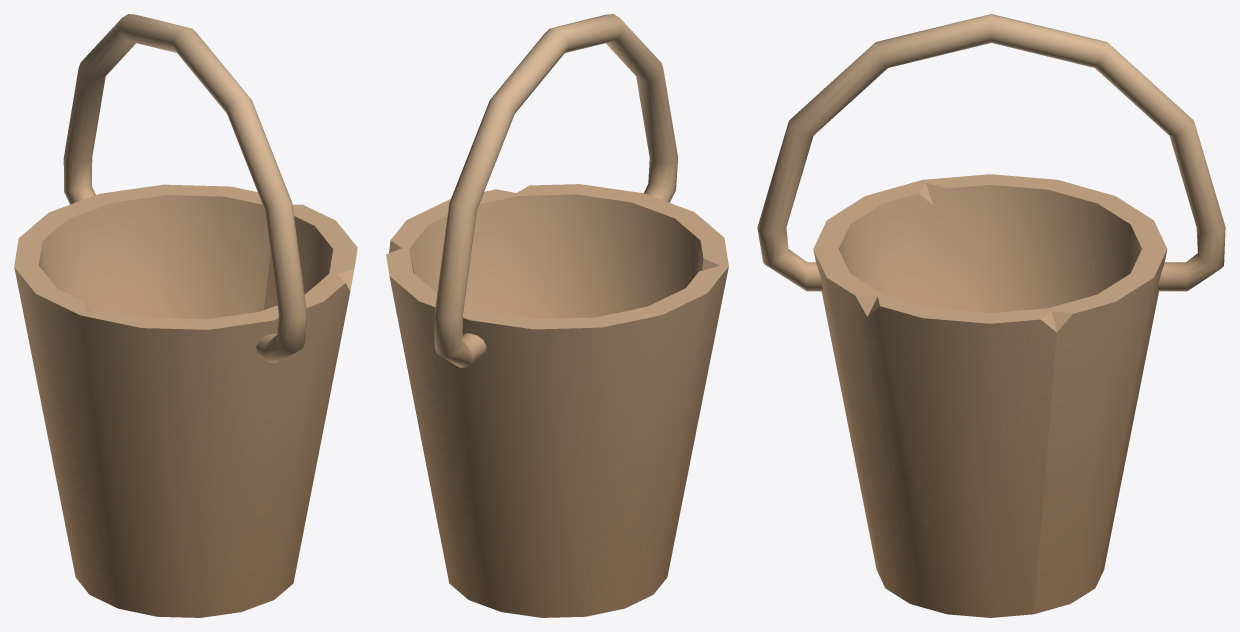
File: WaterBucket.fbx
The picture shows the model from 3 angles, left to right: view 1: azimuth 30°, elevation 25°; view 2: azimuth 150°, elevation 25°; view 3: azimuth 270°, elevation 25°; orthographic projection. The views are drawn at different scales.
Parts seen in each view (by area): view 1: WaterBucket; view 2: WaterBucket; view 3: WaterBucket.
Boxes of the visible parts, <box> form: WaterBucket: <box>14,14,357,617</box>; WaterBucket: <box>386,14,728,617</box>; WaterBucket: <box>757,14,1225,617</box>.
Size of the model in its own units: 0.3248 by 0.4295 by 0.5614.
